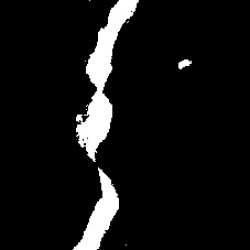crack: (76, 2, 137, 246)
pinhole: (178, 58, 192, 68)
